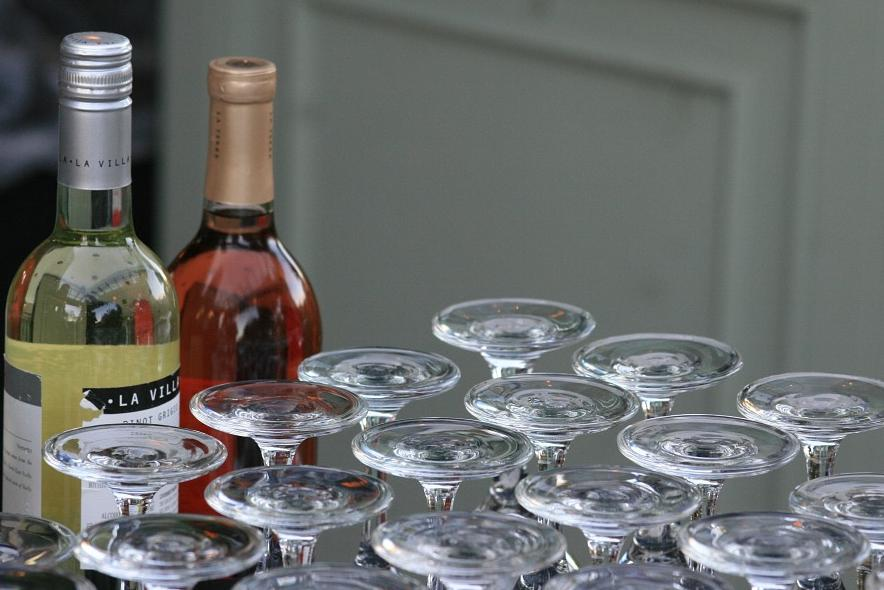wine bottle: (1, 31, 185, 590), (167, 55, 325, 590)
wine label: (181, 380, 230, 571), (1, 362, 37, 576)
